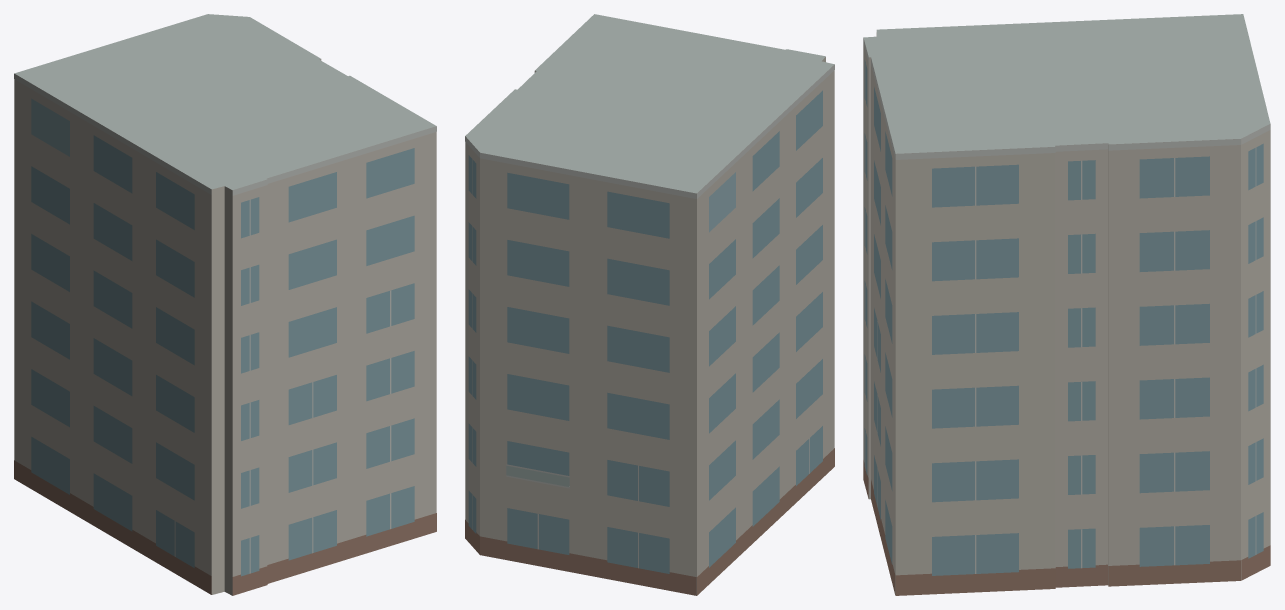
Rendered from survey-upis-32665709.glb.
3 renders of one model, left to right at view 1: azimuth 30°, elevation 25°; view 2: azimuth 150°, elevation 25°; view 3: azimuth 270°, elevation 25°, orthographic. The views are drawn at different scales.
Visible parts, largest first — view 1: survey-upis-32665709.tmp; view 2: survey-upis-32665709.tmp; view 3: survey-upis-32665709.tmp.
Boxes of the visible parts, bbox=[...] form: survey-upis-32665709.tmp: bbox=[14, 14, 436, 595]; survey-upis-32665709.tmp: bbox=[465, 14, 834, 595]; survey-upis-32665709.tmp: bbox=[863, 14, 1270, 595].
Bounding box in the file's own units: 11.81 × 17.4 × 14.53.
